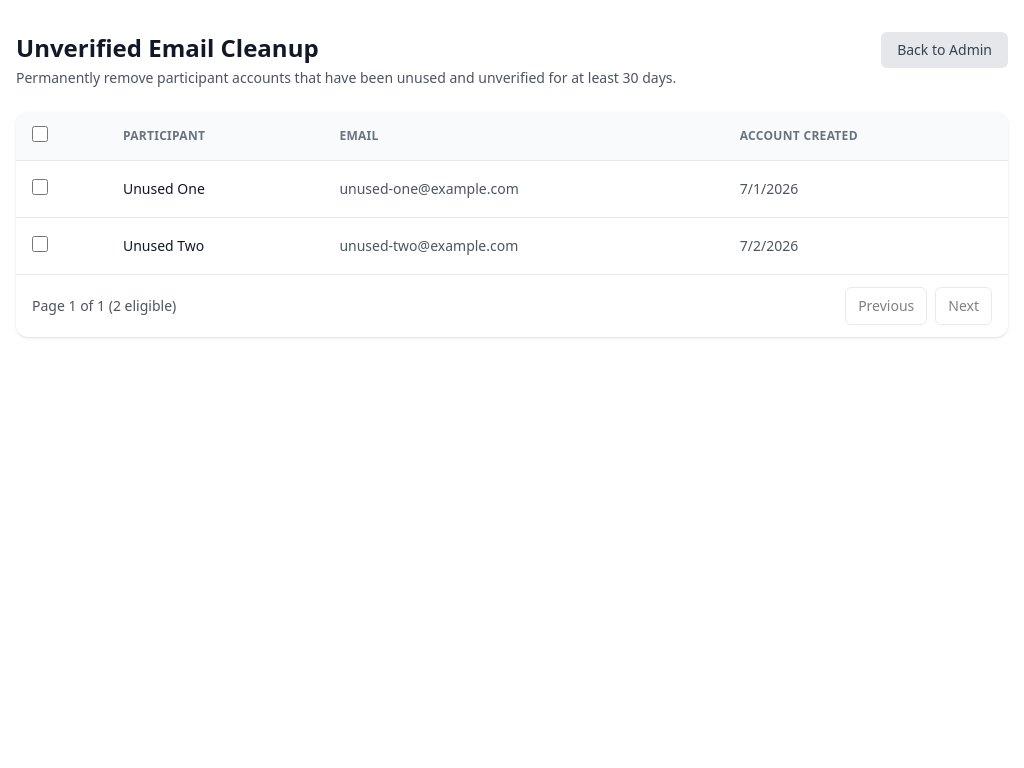
Test: AdminUnverifiedUserCleanupPage › should close the confirmation dialog and display deletion errors
Expected: the text "Unused One" is shown, [107,160,323,218]
Click the checkbox named "Select Unused One".
click(40, 187)  # box [32,179,48,195]
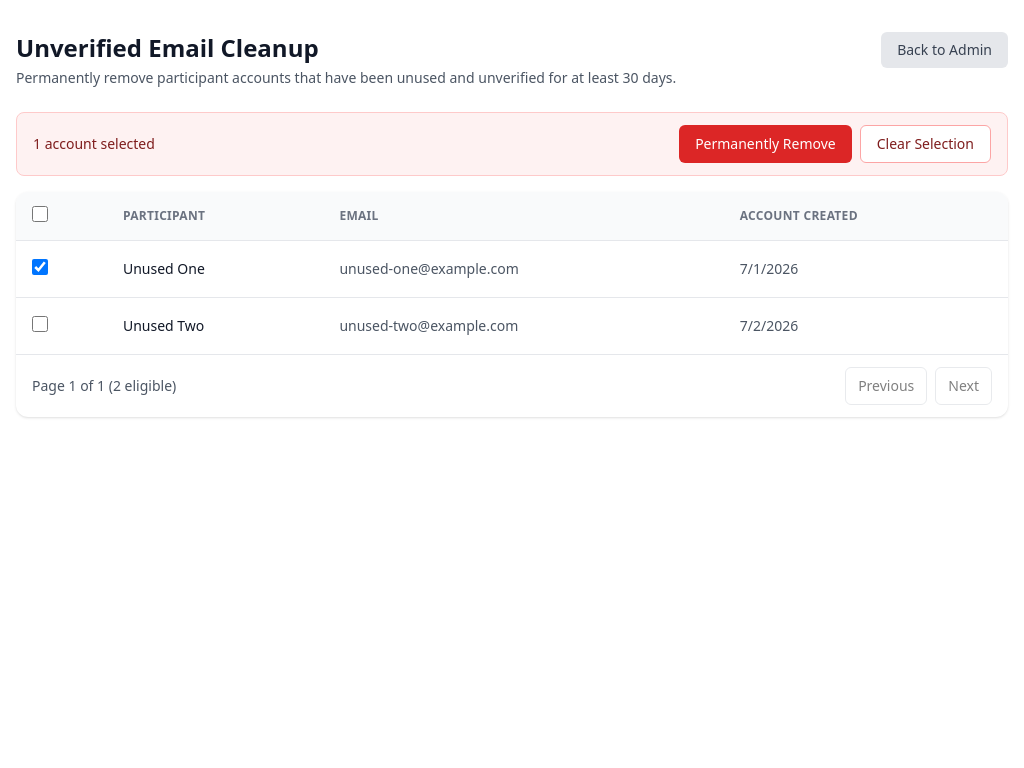
Click the button "Permanently Remove".
click(765, 144)  # box [679,125,852,163]
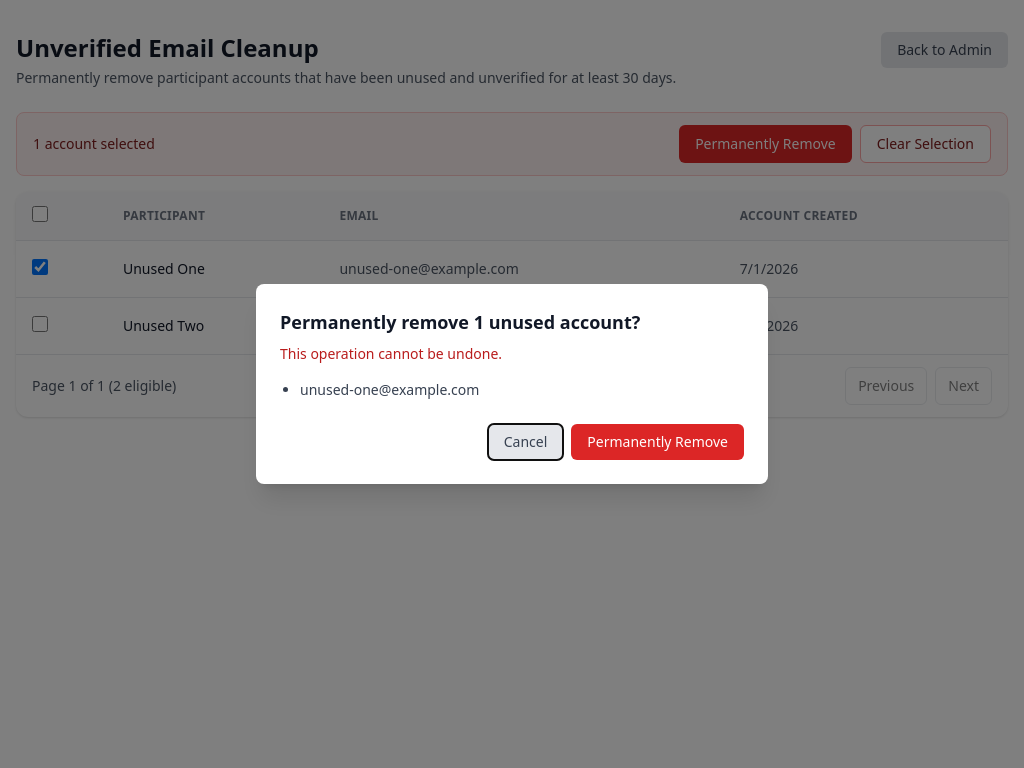
Click the button "Permanently Remove".
click(658, 442)  # box [571,424,744,460]
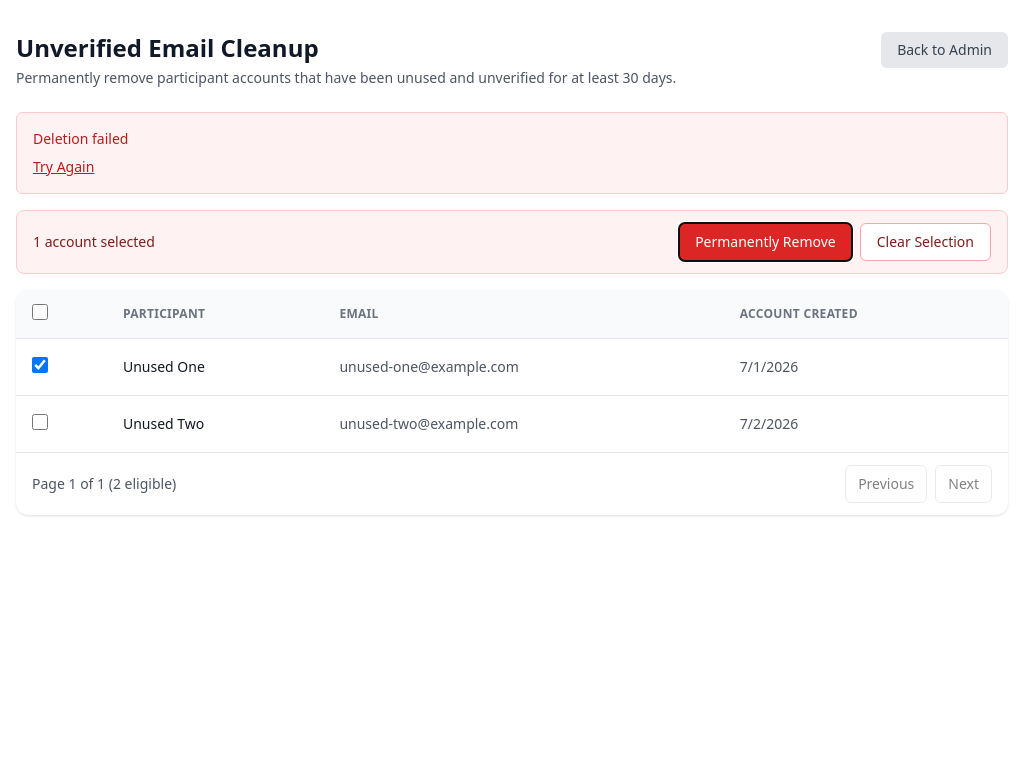
Expected: the message shows "Deletion failed", [33,129,128,148]
Expected: the dialog is gone
